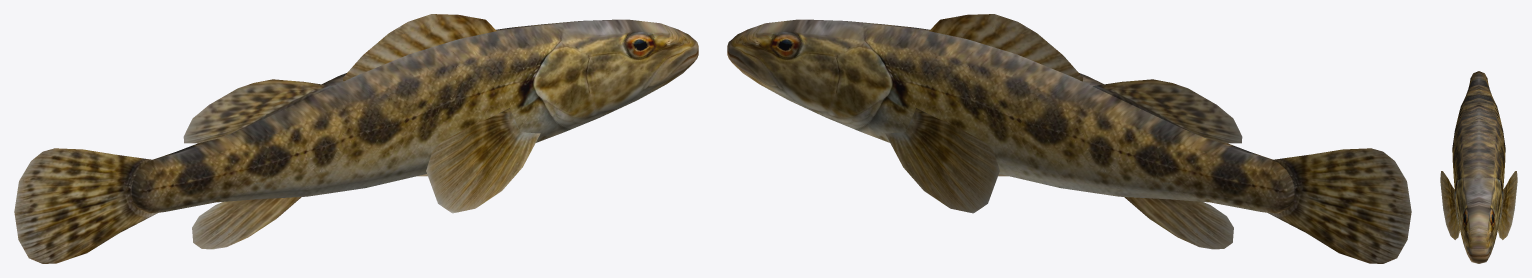
File: EuropeanBullhead.glb
3 renders of one model, left to right at view 1: azimuth 30°, elevation 25°; view 2: azimuth 150°, elevation 25°; view 3: azimuth 270°, elevation 25°, orthographic. The views are drawn at different scales.
Parts seen in each view (by area): view 1: EuropeanBullhead; view 2: EuropeanBullhead; view 3: EuropeanBullhead.
Part boxes in pixels (x1,y1,x2,y2): EuropeanBullhead: (14,14,698,263); EuropeanBullhead: (727,14,1411,263); EuropeanBullhead: (1440,71,1517,263).
Bounding box in the file's own units: 2 × 0.5159 × 0.3034.
1 material, 1 textured.
